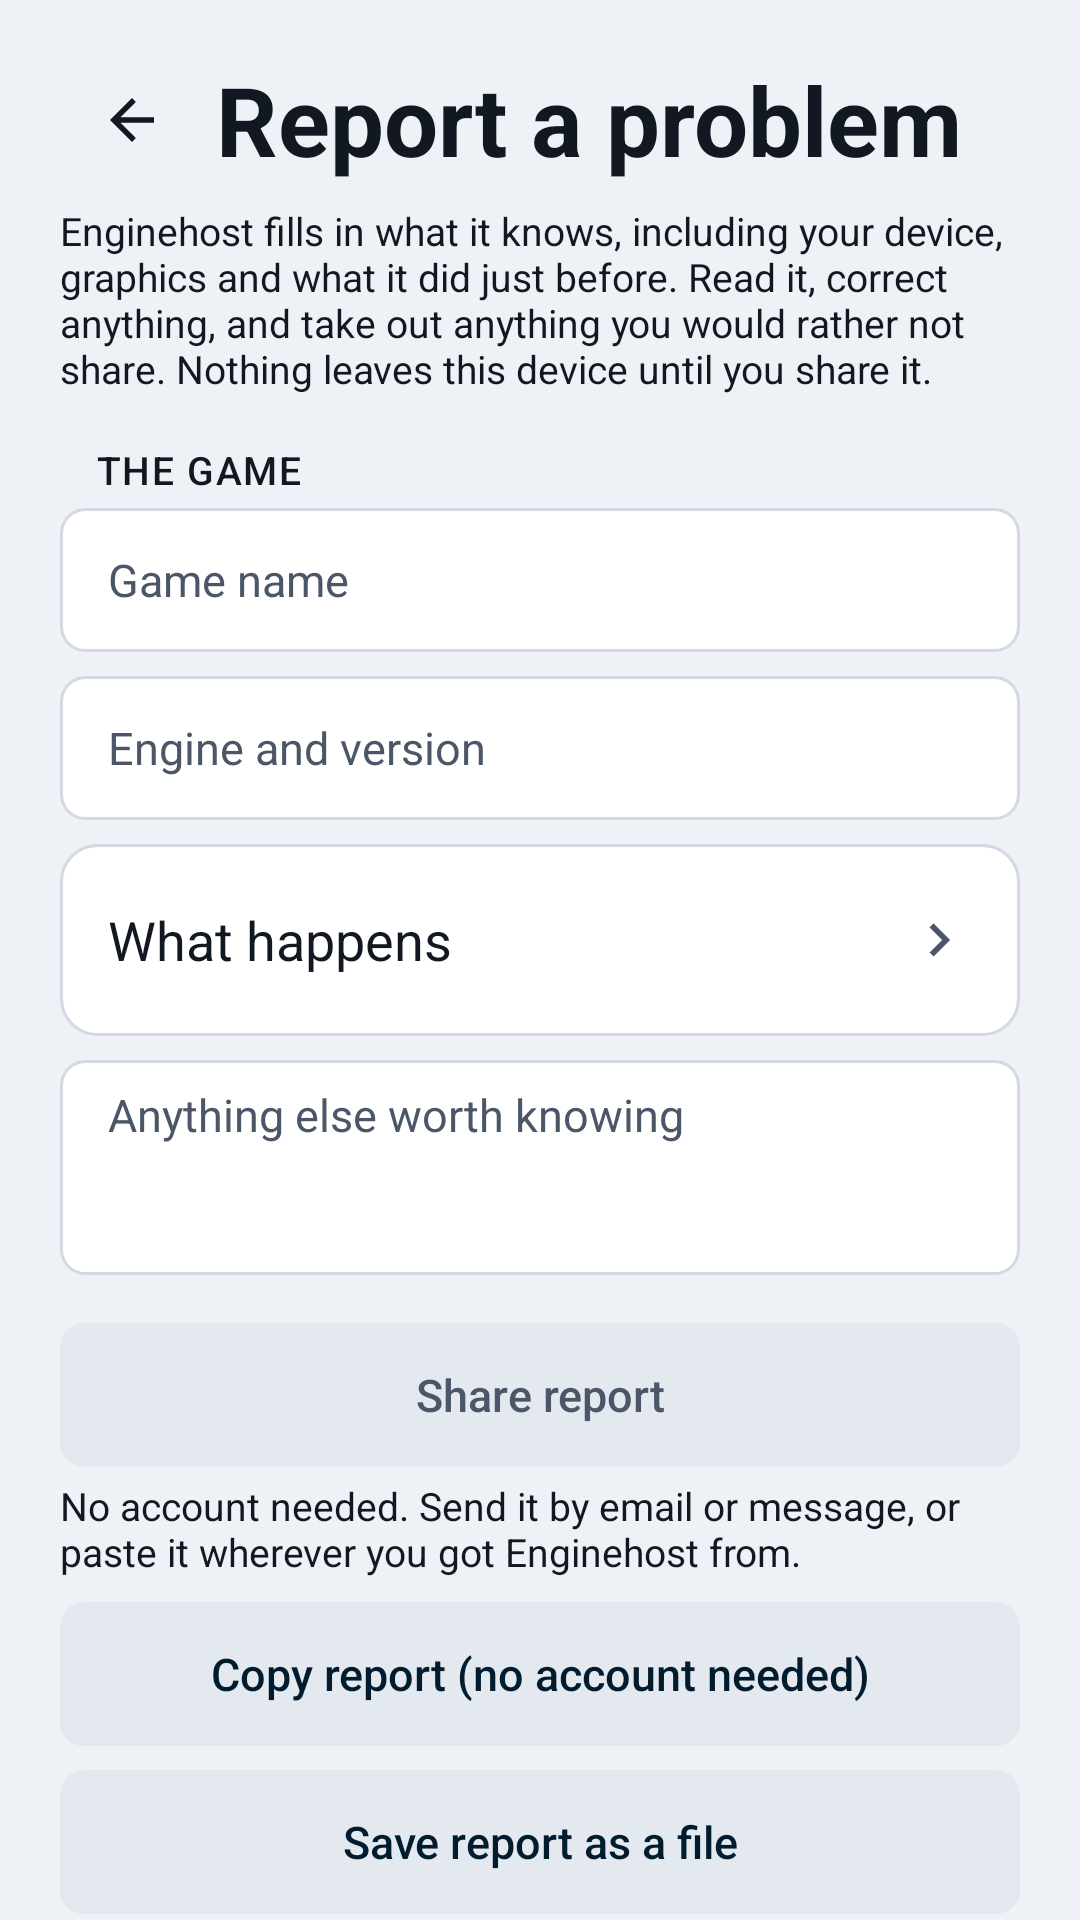

Named icons in this screenshot (1080 x 1920) and their centers, point (x, y):
Back: point (132, 120)
chevron: point (939, 940)
